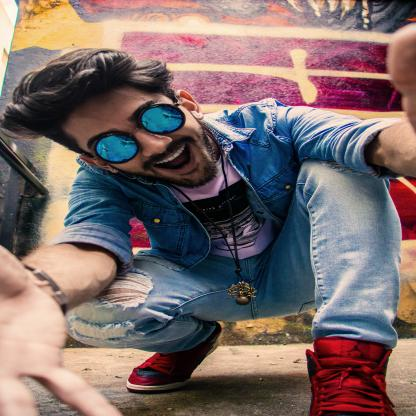Mouth: (149, 144, 199, 172)
Nose: (136, 130, 172, 158)
